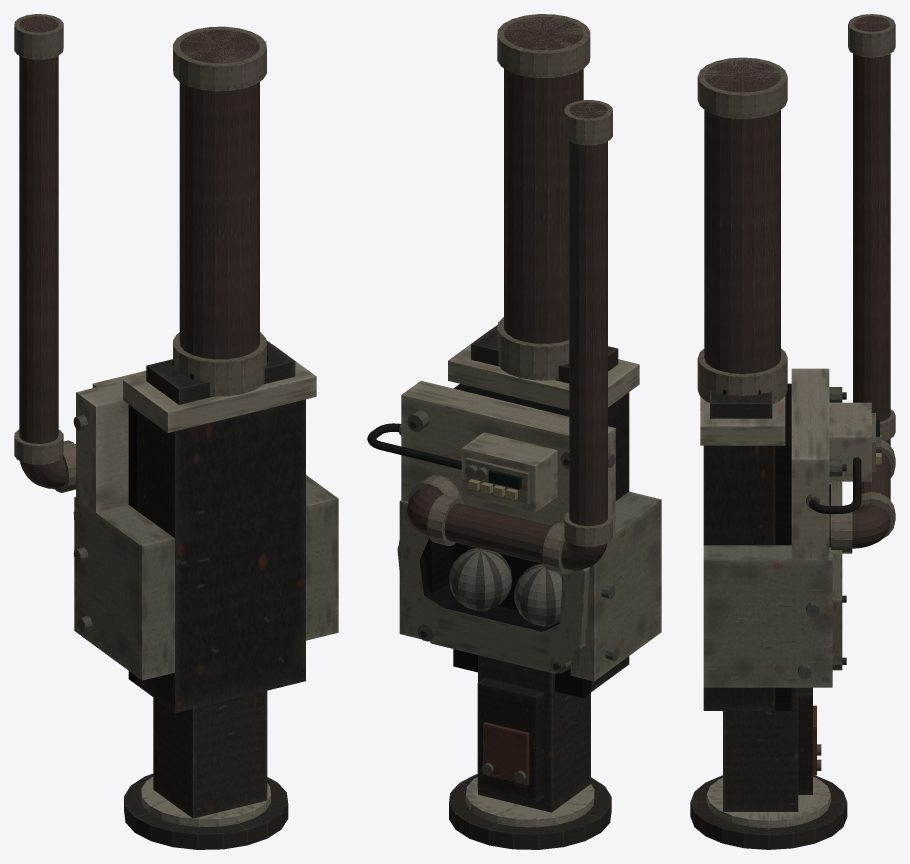
The model's file is kino_dispenser_weathered_preview_v5.obj.
3 views of the same model, side by side, from view 1: azimuth 30°, elevation 25°; view 2: azimuth 150°, elevation 25°; view 3: azimuth 270°, elevation 25° (orthographic). The views are drawn at different scales.
Size of the model in its own units: 1.74 by 5 by 1.25.
Materials: 15 (15 with a texture image).
